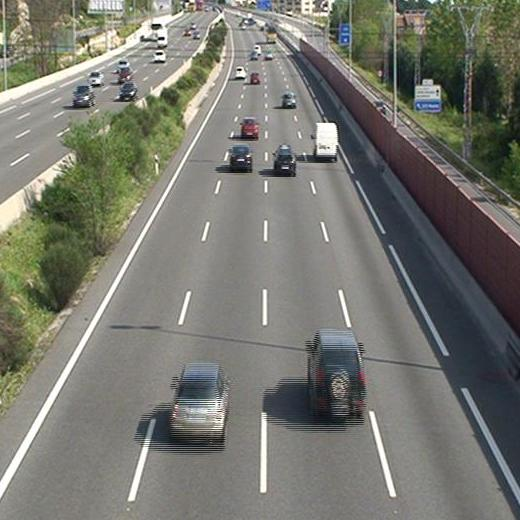car: (308, 332, 366, 421), (171, 366, 230, 440), (273, 148, 297, 175), (229, 146, 253, 169), (240, 119, 258, 138), (281, 91, 297, 108), (234, 66, 246, 80), (250, 71, 260, 83)
van: (313, 122, 338, 158)
